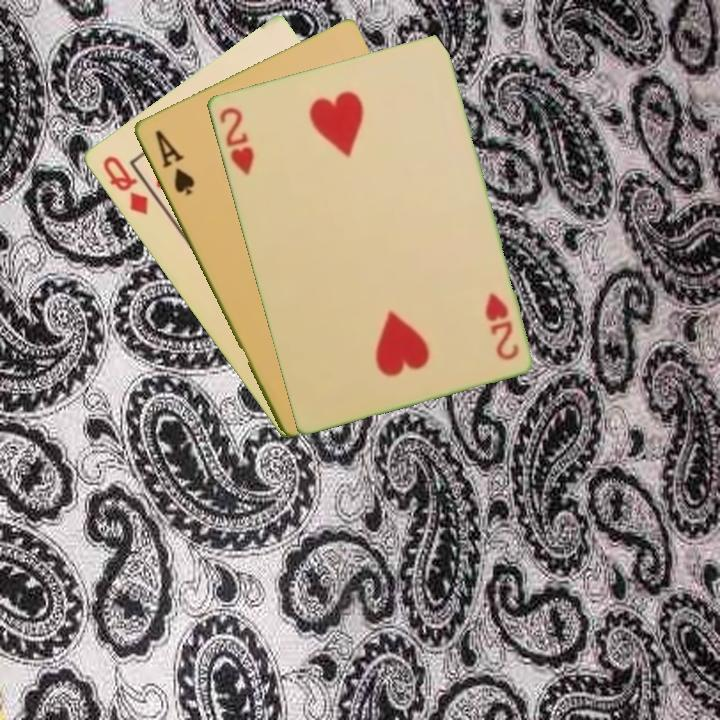2h: (215, 103, 257, 178), (481, 289, 521, 363)
As: (150, 126, 197, 198)
Qd: (98, 152, 151, 218)
